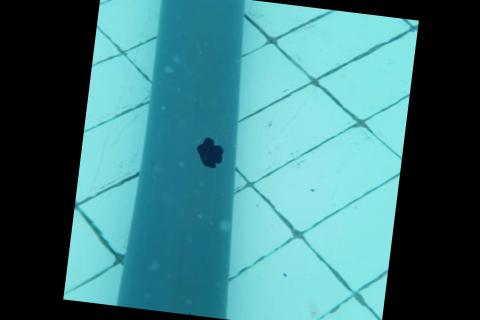kebocoran: (191, 135, 224, 169)
